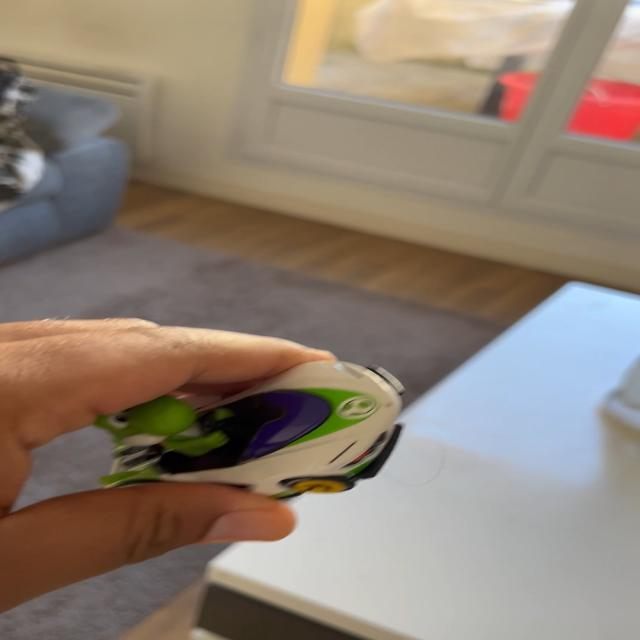yoshi: (49, 359, 420, 514)
